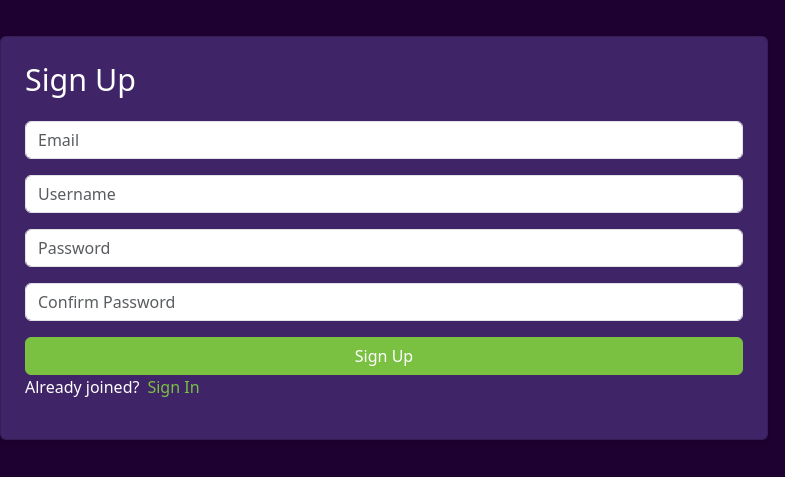
Scenario: SignUp Component › displays an error message on failed sign-in
The width and height of the screenshot is (785, 477).
Type "wrong" into the field with placeholder "Email".
click(384, 140); type("wrong")  # box [25, 121, 743, 159]
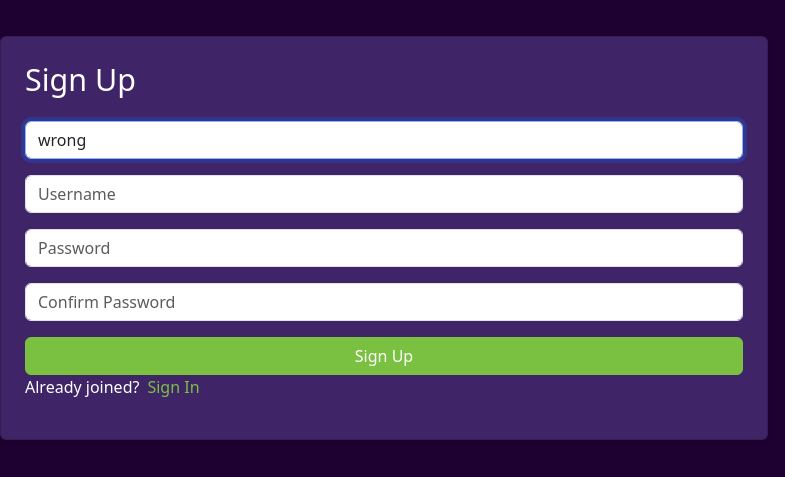
Type "test" into the field with placeholder "Username".
click(384, 194); type("test")  # box [25, 175, 743, 213]
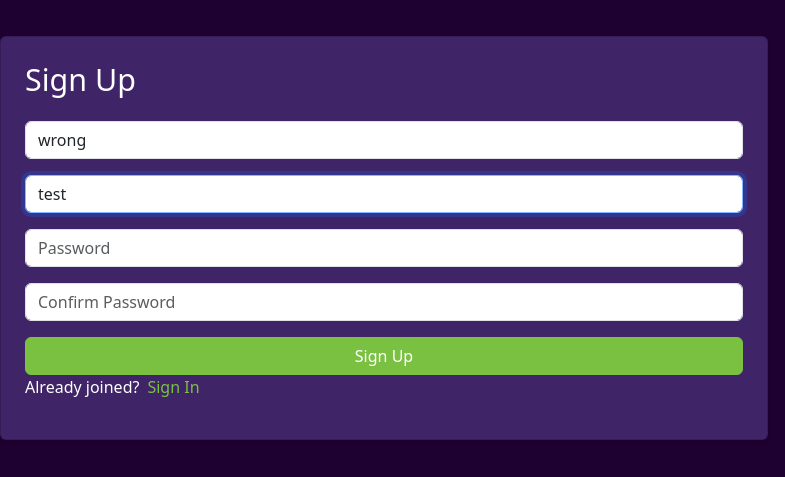
Type "password" into the password field with placeholder "Password".
click(384, 248); type("password")  # box [25, 229, 743, 267]
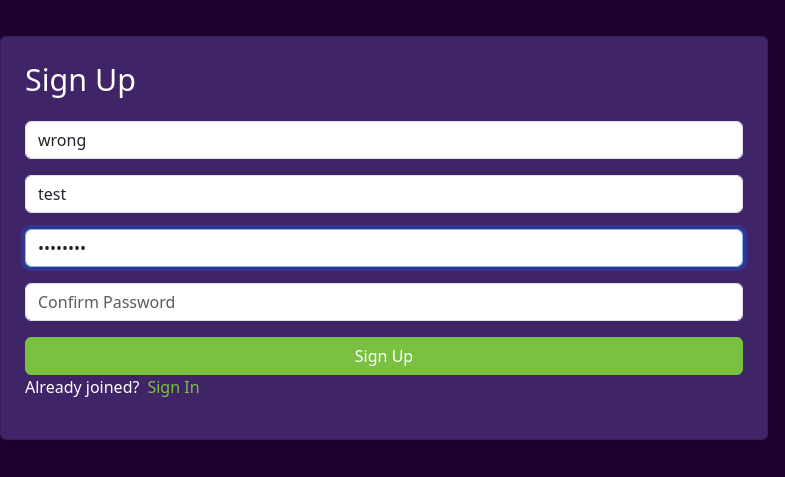
Type "password" into the password field with placeholder "Confirm Password".
click(384, 302); type("password")  # box [25, 283, 743, 321]
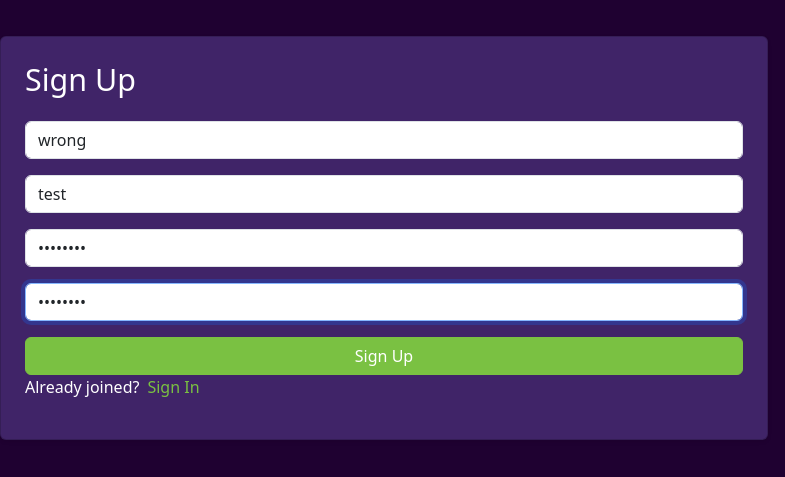
Click the button "Sign Up".
click(384, 356)  # box [25, 337, 743, 375]
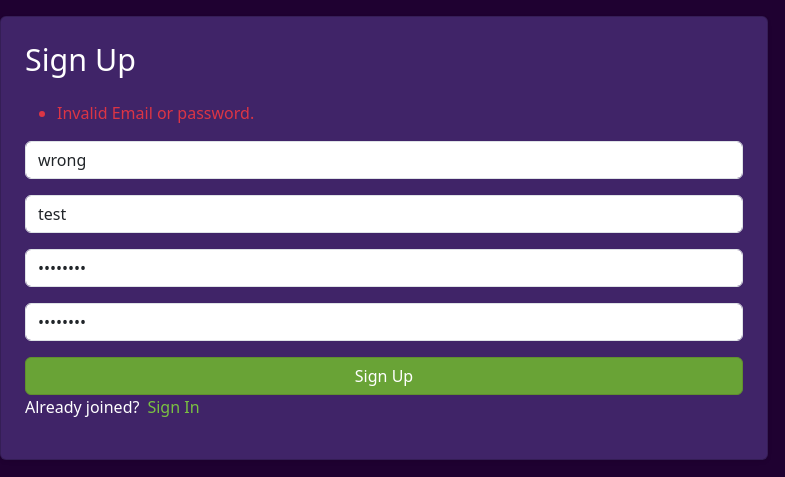
Expected: the list item "Invalid Email or password." is shown, [57, 102, 254, 124]
